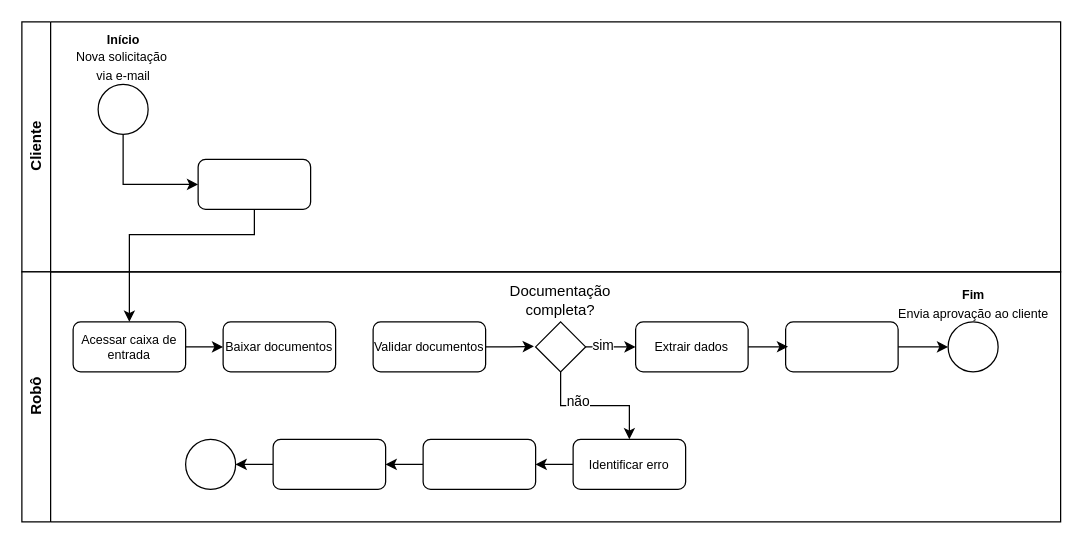
The diagram is 1083 pixels wide and 544 high, and some of its shapes have lost their labels. The shapes that lost their labels are listed below. From the top down, each one's centre as x and y in pixels, then its label:
At point 254,183: "Envia solicitação".
At point 841,346: "Atualizar planilha".
At point 210,463: "Fim Envia reprovação ao cliente".
At point 329,463: "Mover para pasta de pendentes".
At point 479,463: "Informar motivo".
